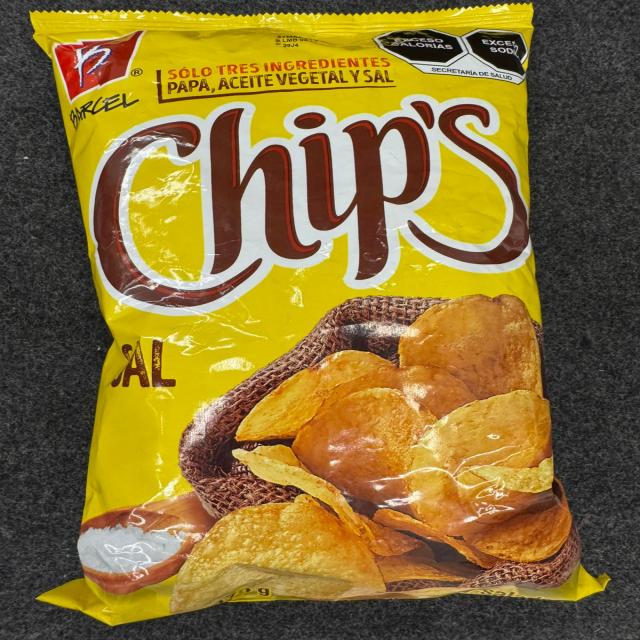Papas Chips Barcel 170 gr bolsa con sal: (22, 6, 622, 627)
